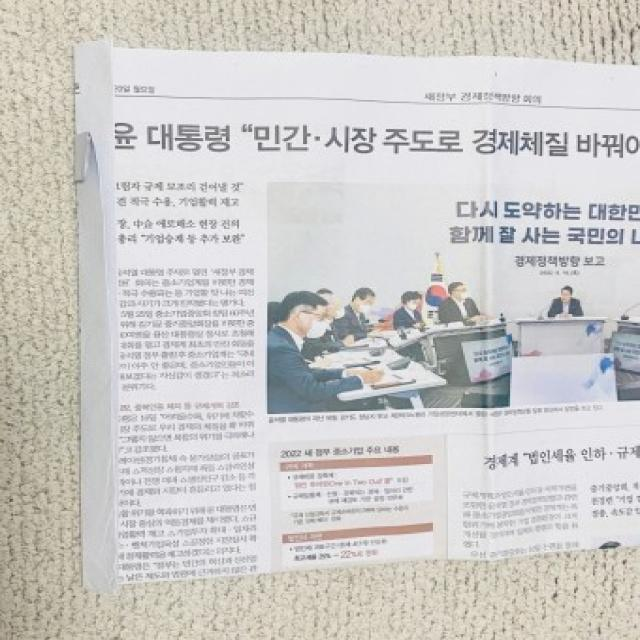Newspaper: (68, 48, 640, 584)
